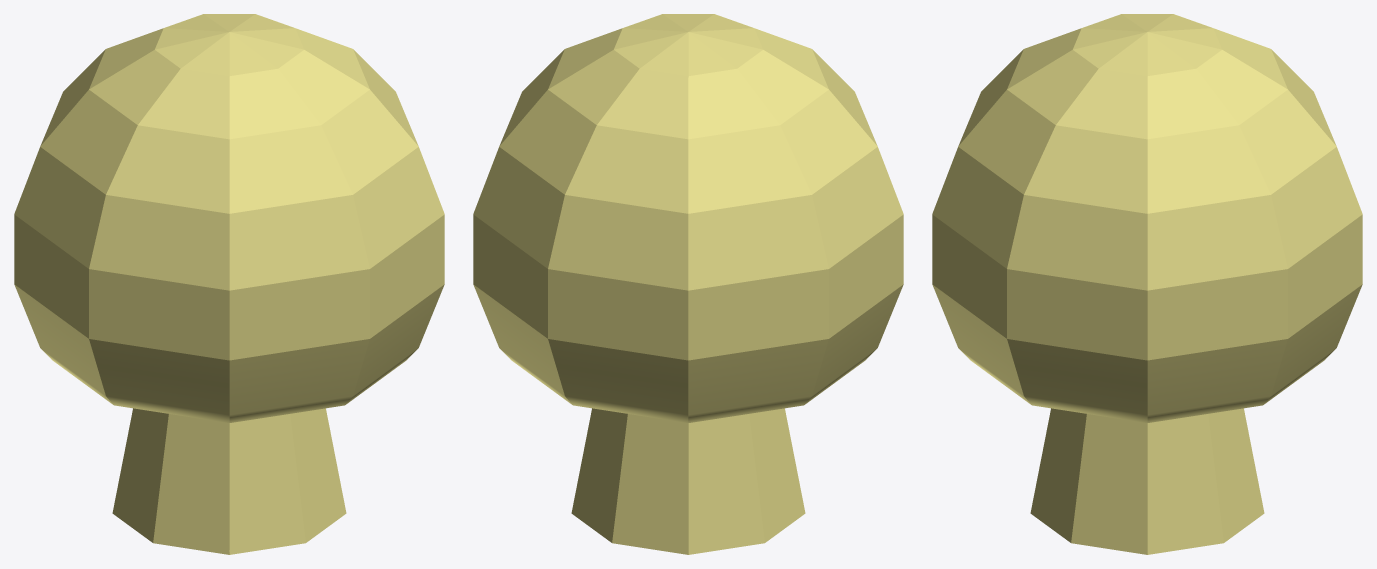
Rendered from mush_round.fbx.
The picture shows the model from 3 angles, left to right: view 1: azimuth 30°, elevation 25°; view 2: azimuth 150°, elevation 25°; view 3: azimuth 270°, elevation 25°; orthographic projection.
Visible parts, largest first — view 1: pSphere1; view 2: pSphere1; view 3: pSphere1.
Part boxes in pixels (left/top/right/bottom): pSphere1: left=14, top=14, right=444, bottom=554; pSphere1: left=473, top=14, right=903, bottom=554; pSphere1: left=932, top=14, right=1362, bottom=554.
Bounding box in the file's own units: 1.91 × 2.43 × 1.94.
